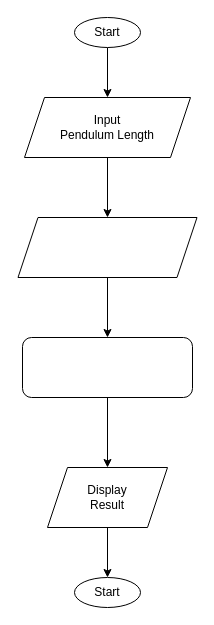
Image size: 214x625. Some labels were removed from this diagram. Each missing label, with the centre of its shape:
"Calculate Time Period" belongs at [107,367].
"Input Acceleration due to Gravity" belongs at [107,247].
